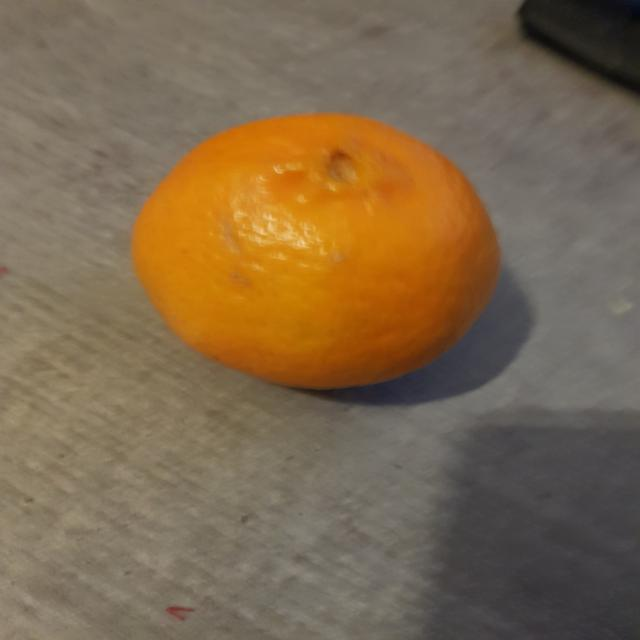Orange: (130, 113, 502, 393)
